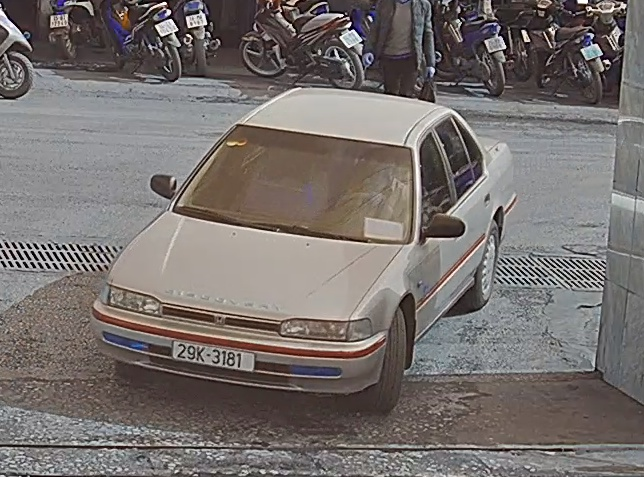vehicle plate: (165, 334, 262, 376)
